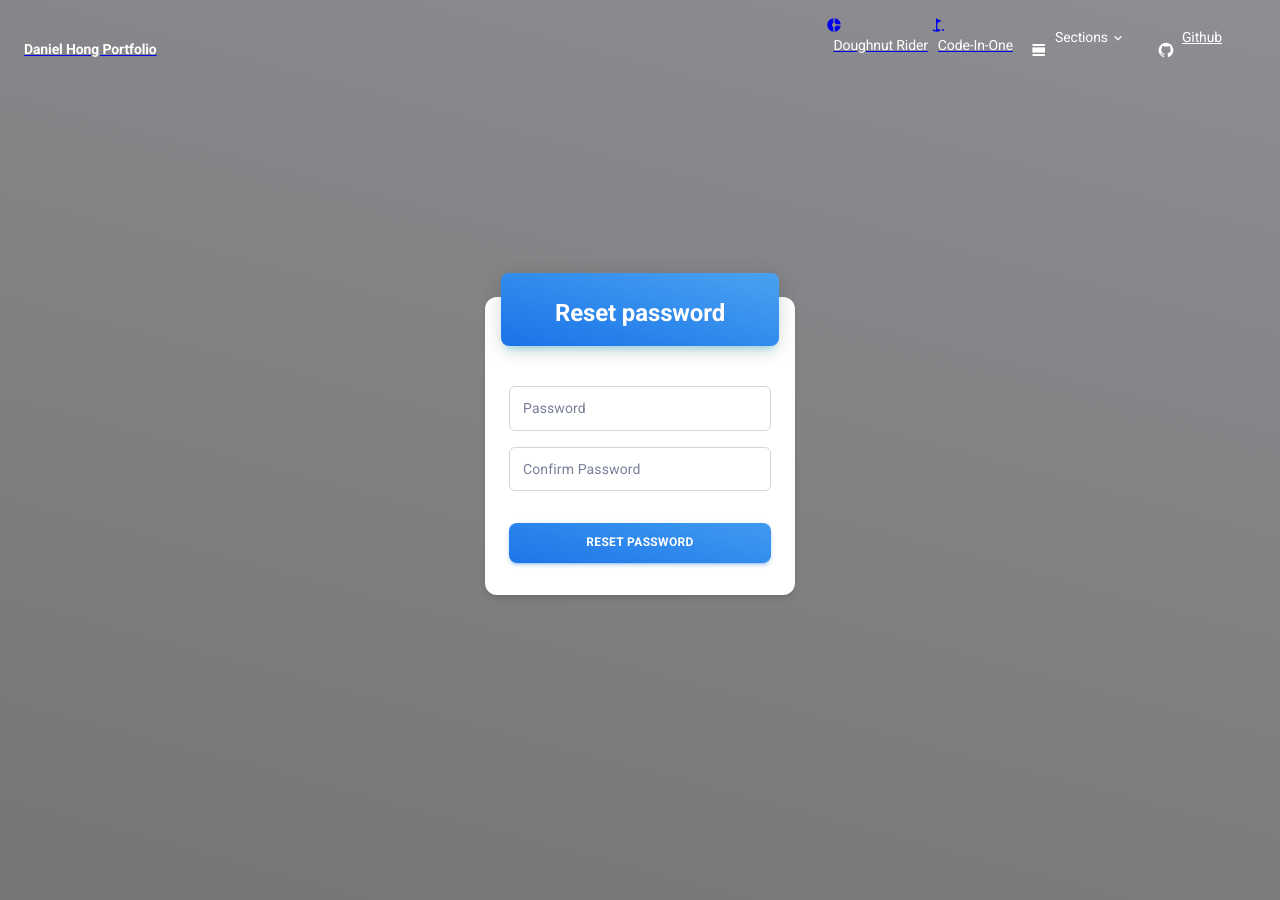
Test: ResetPassword › requires passwords to match
Provide input for just the first password
Type "catsdogsmice" into the password field labelled "Password" at (640,408), box [509, 386, 771, 430]
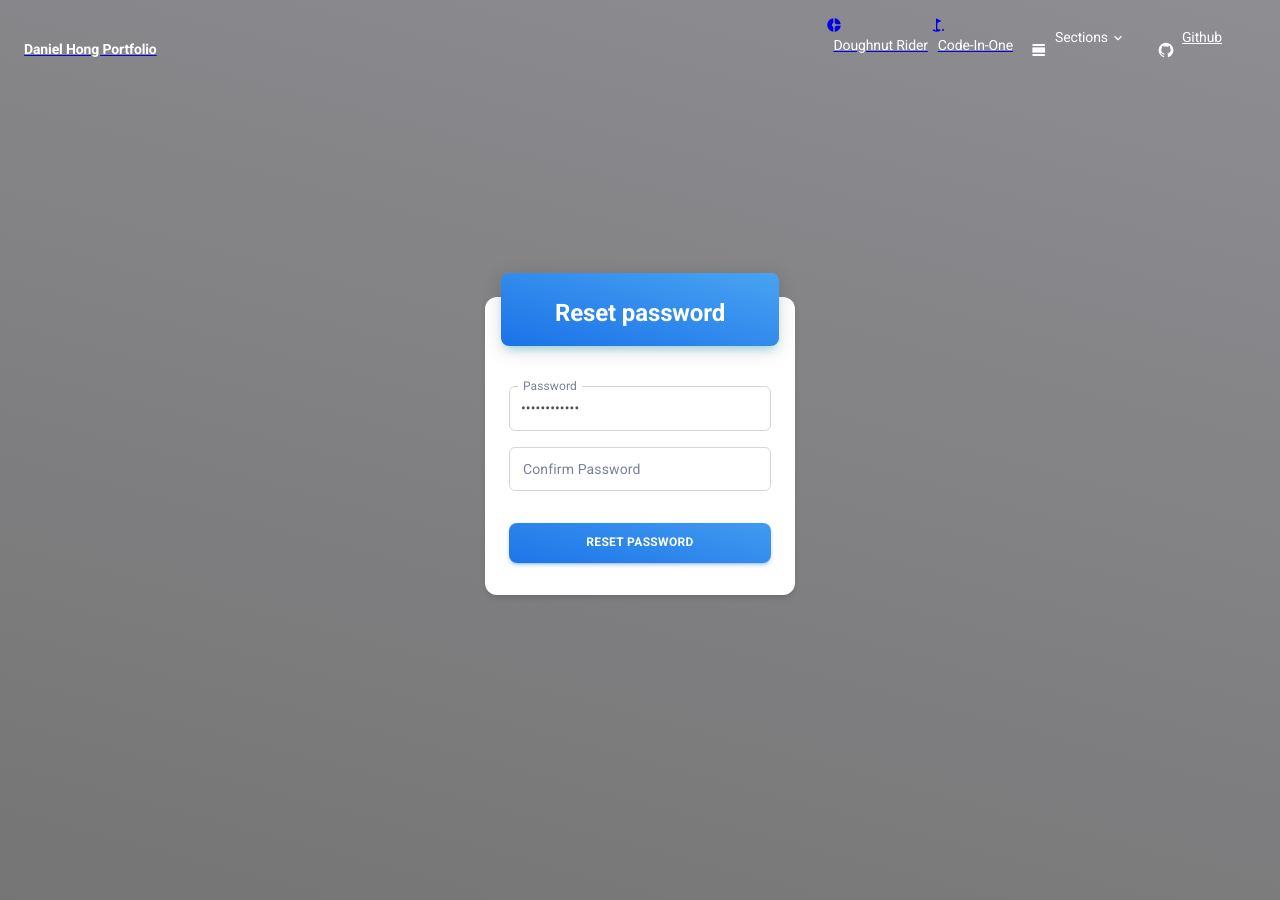
Type "pigssheeplamb" into the password field labelled "Confirm Password" at (640,469), box [509, 446, 771, 491]
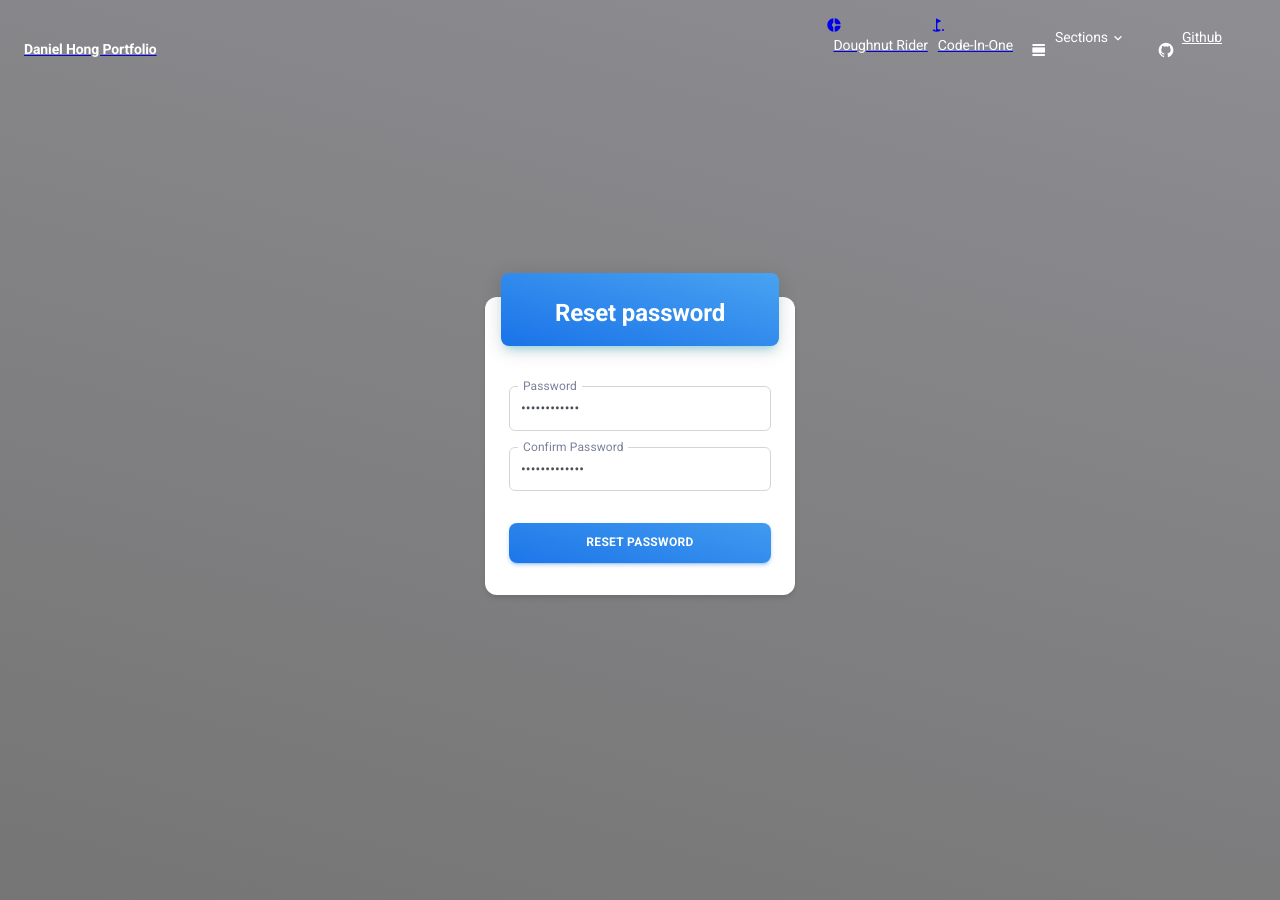
Click the button "reset password" at (640,543), box [509, 523, 771, 563]
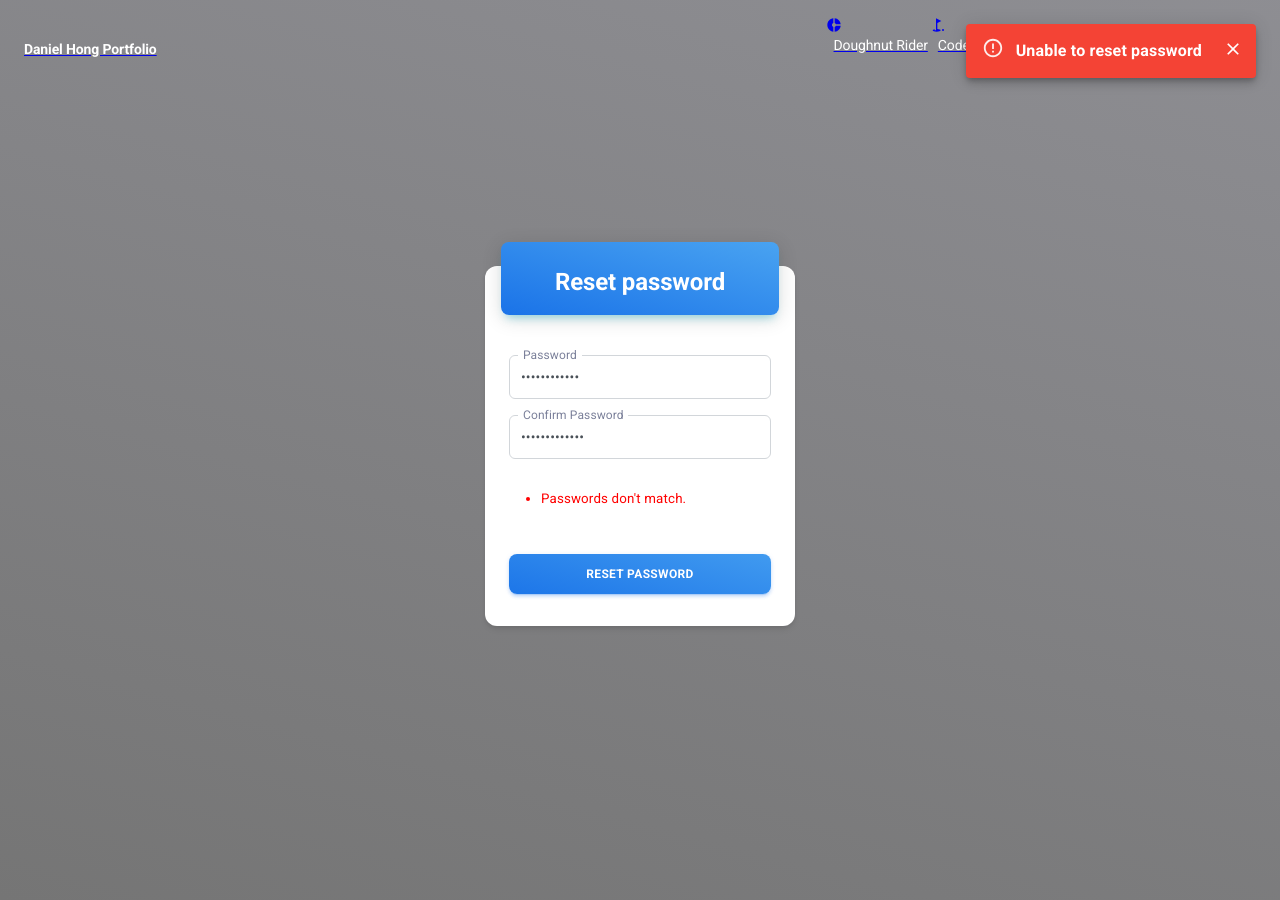
Expected: the list item "Passwords don't match." is shown, [541, 489, 686, 509]
